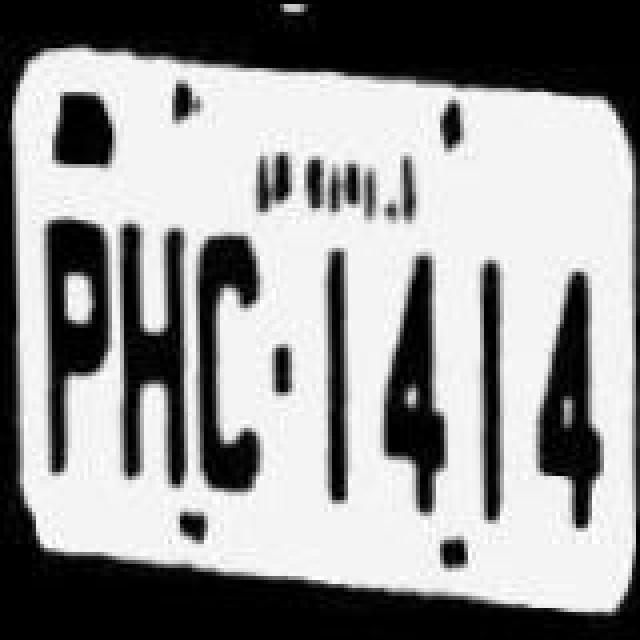1: (312, 230, 364, 514), (468, 254, 516, 522)
4: (530, 232, 614, 540), (372, 246, 448, 510)
C: (194, 220, 274, 508)
H: (108, 210, 192, 502)
P: (32, 206, 116, 498)
